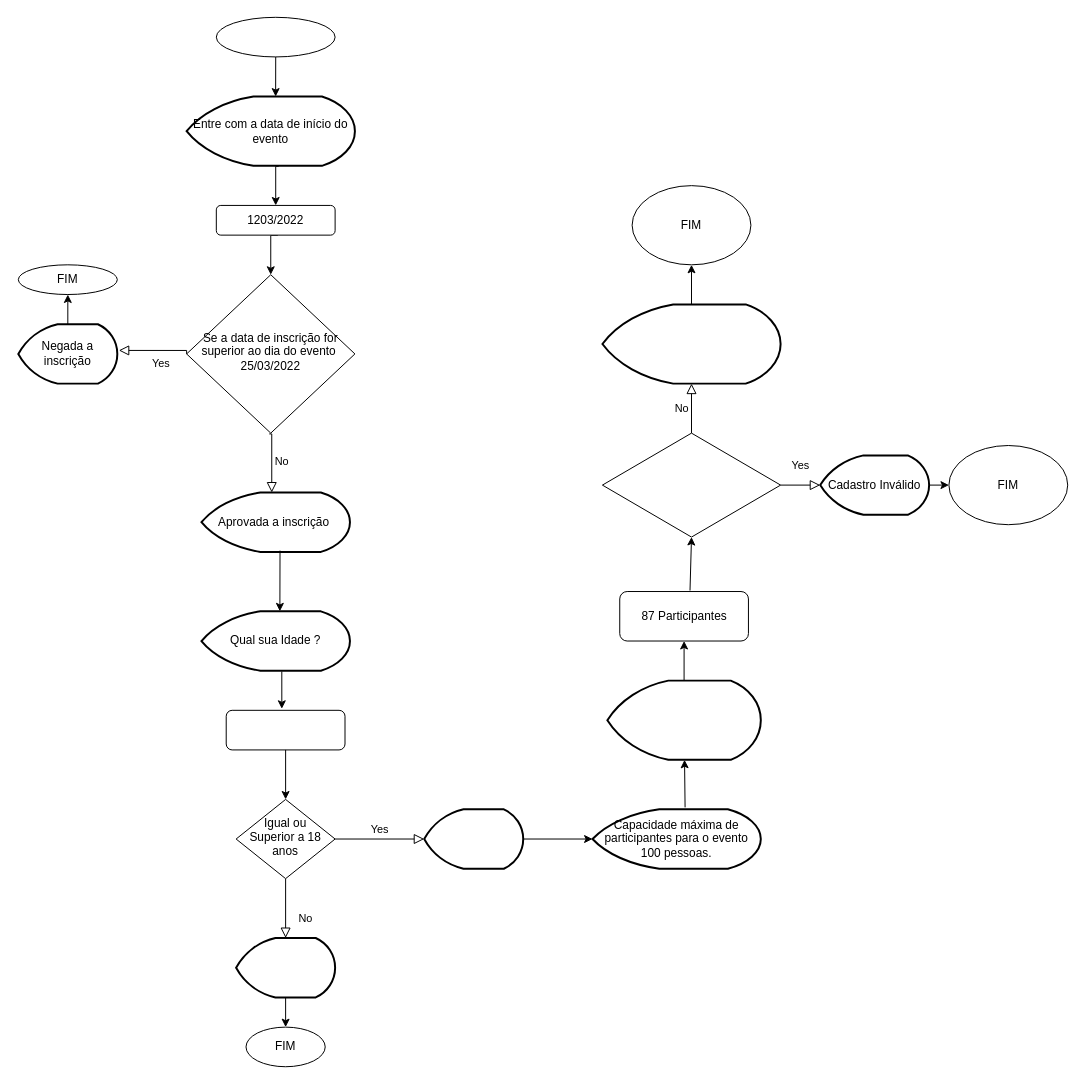
This 1085x1084 diagram has some shape labels left out. Here are the shapes that lost their labels. From the top down, the centre of each, then its label:
At [275,36]: "Inicio".
At [691,343]: "Cadastro Aceito".
At [691,484]: "Numero de participantes igual ou superior a 100 indivíduos".
At [285,729]: "21 anos".
At [683,719]: "Informe o numero de participantes do nevento".
At [473,838]: "Idade aprovada para o cadastro".
At [285,967]: "Inválido por motivo de Idade".
